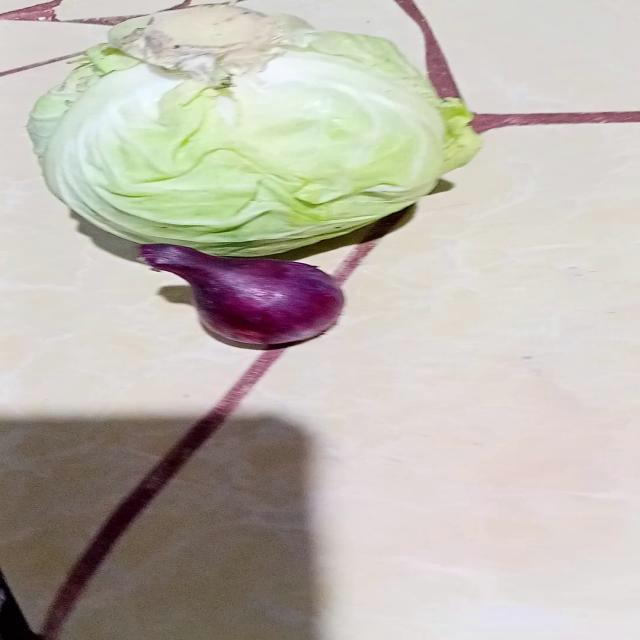cabbage: (26, 2, 468, 260)
onion: (137, 245, 347, 354)
